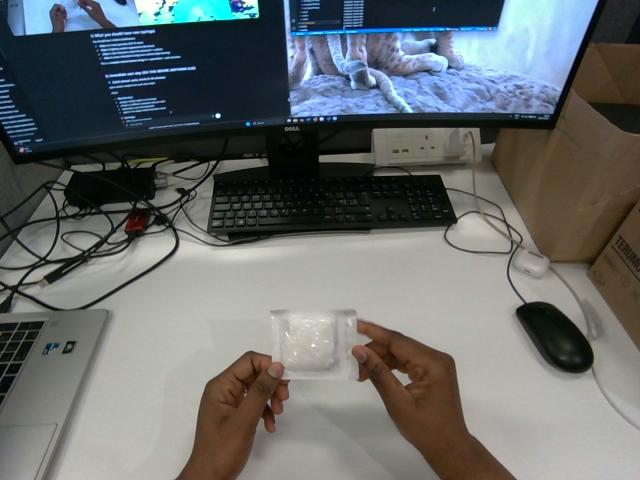gauze: (271, 310, 358, 378)
